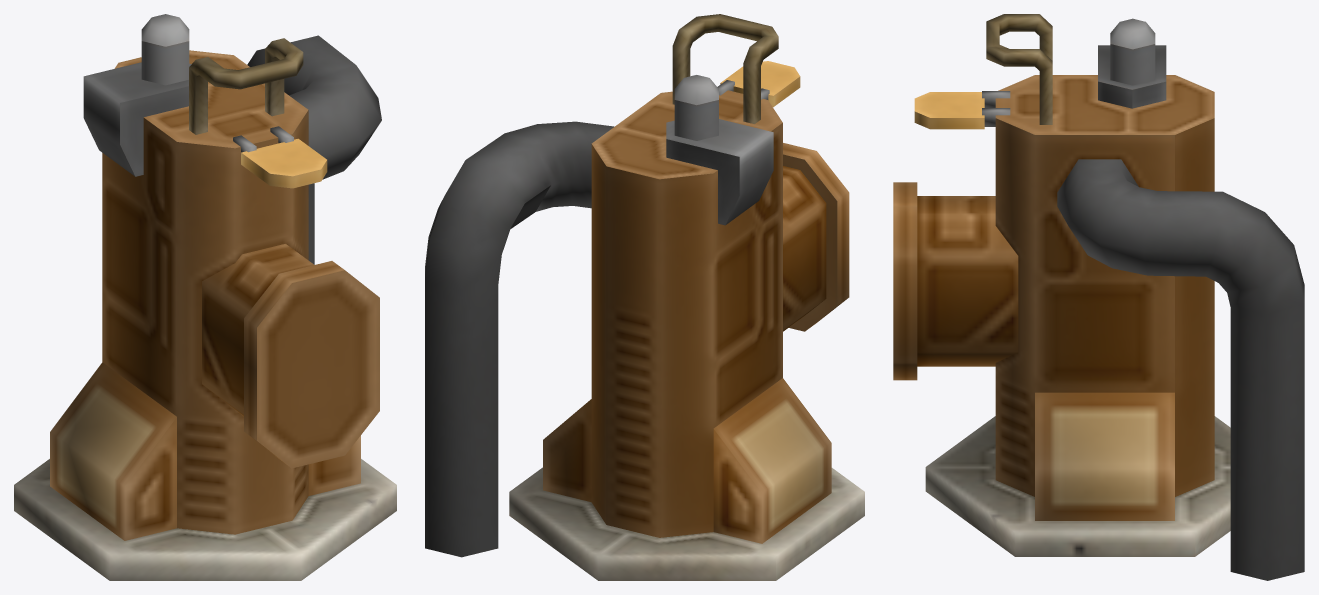
Rendered from Junk_Tech.FBX.
The picture shows the model from 3 angles, left to right: view 1: azimuth 30°, elevation 25°; view 2: azimuth 150°, elevation 25°; view 3: azimuth 270°, elevation 25°; orthographic projection. The views are drawn at different scales.
Parts seen in each view (by area): view 1: Junk_Tech; view 2: Junk_Tech; view 3: Junk_Tech.
Boxes of the visible parts, <box> form: Junk_Tech: <box>14,14,396,580</box>; Junk_Tech: <box>425,14,864,580</box>; Junk_Tech: <box>893,14,1304,580</box>.
Bounding box in the file's own units: 470 × 645 × 526.
